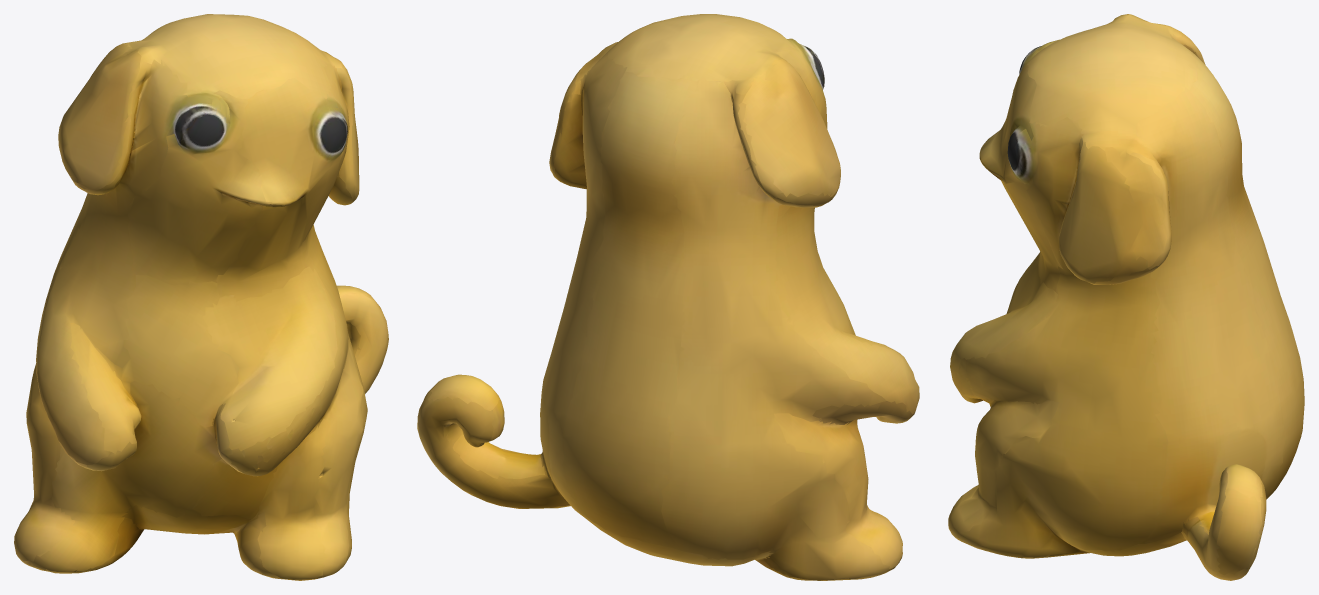
Rendered from naiwa_naigou_runtime.glb.
3 views of the same model, side by side, from view 1: azimuth 30°, elevation 25°; view 2: azimuth 150°, elevation 25°; view 3: azimuth 270°, elevation 25° (orthographic). The views are drawn at different scales.
Parts seen in each view (by area): view 1: geometry_0; view 2: geometry_0; view 3: geometry_0.
Part boxes in pixels (x1,y1,x2,y2): geometry_0: (14,14,388,580); geometry_0: (417,14,919,580); geometry_0: (948,14,1304,580).
Bounding box in the file's own units: 0.1326 × 0.1499 × 0.0999.
Materials: 1 (1 with a texture image).
